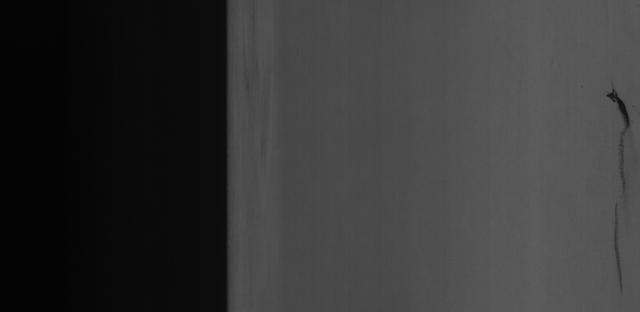inclusion: (599, 83, 638, 278)
